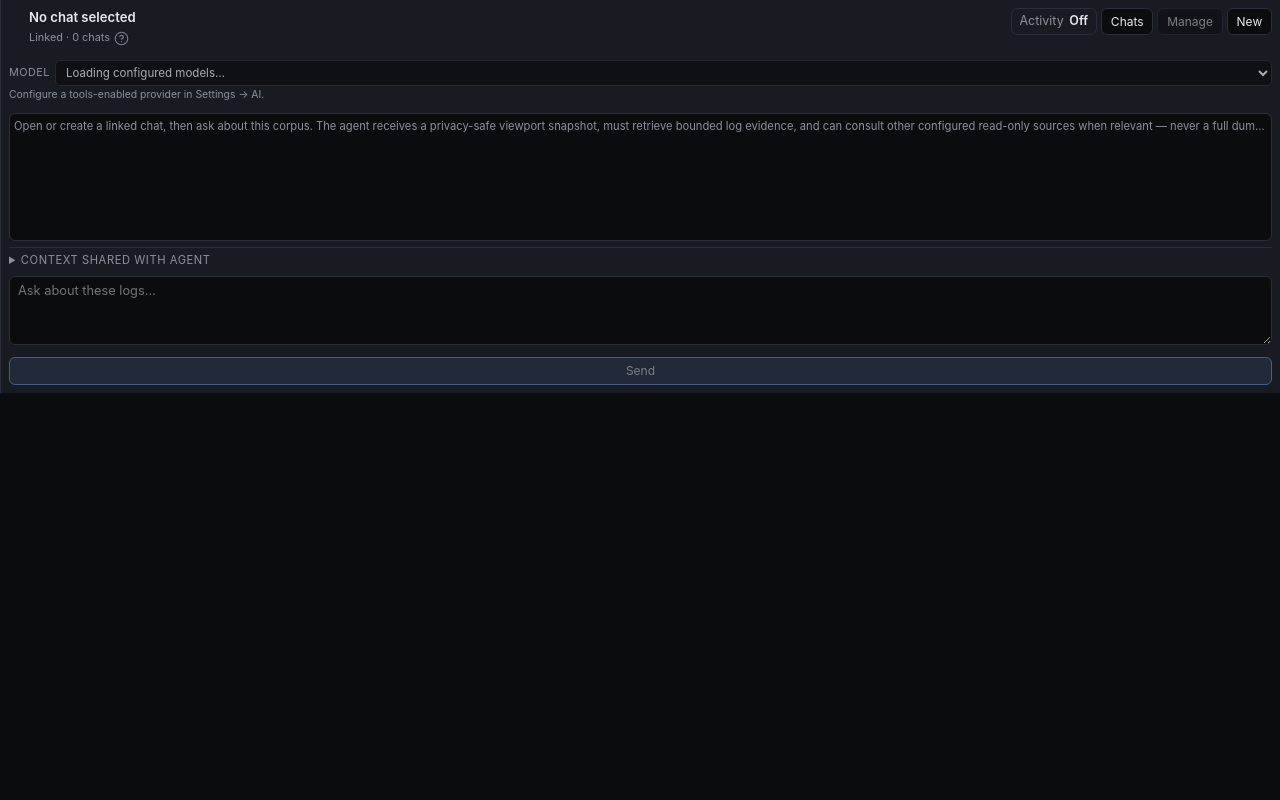
Test: LinkedChatRail › explains the bounded linked-chat context and privacy boundary
Click the button named "Help: How linked chat context works" at (121, 38), box 110,27 -> 132,49
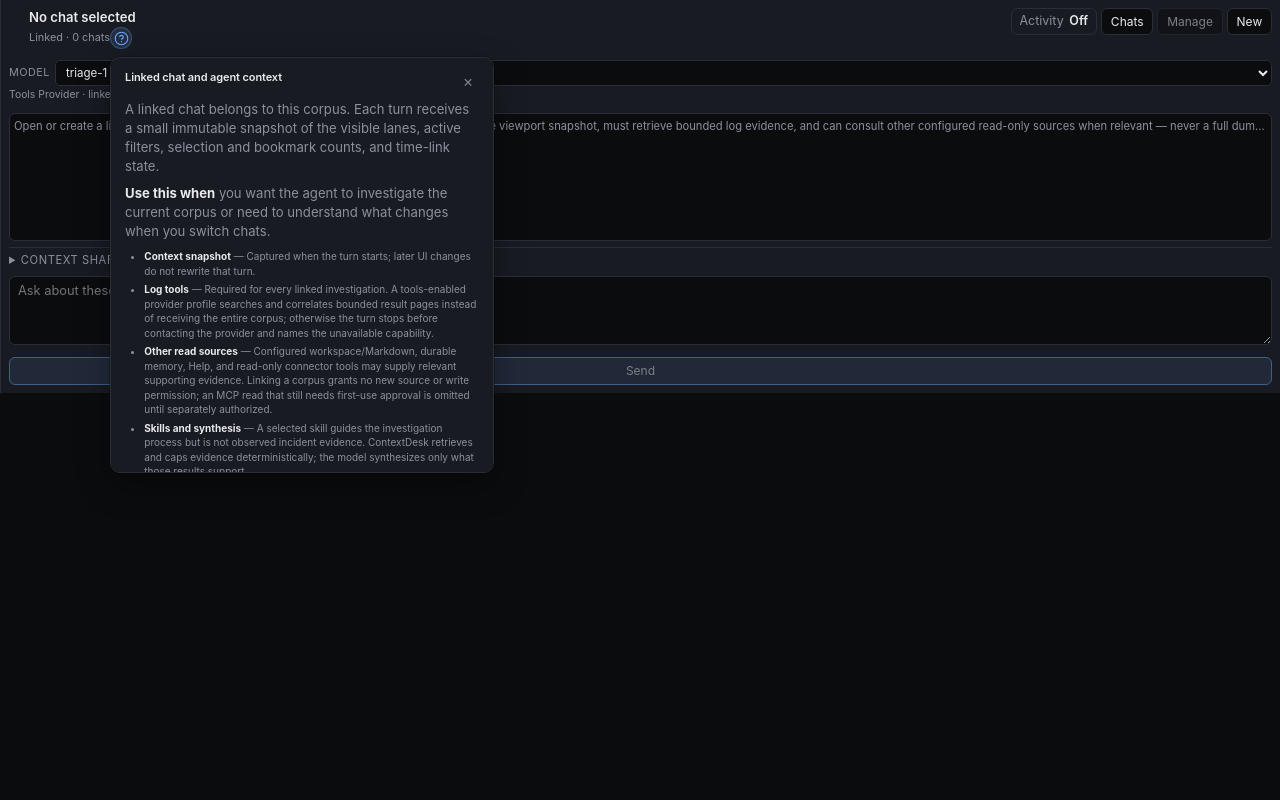
Check: the dialog "Linked chat and agent context" shows "small immutable snapshot", box 125,101 -> 469,174
Check: the dialog "Linked chat and agent context" shows "bounded result pages", box 144,283 -> 476,339
Check: the dialog "Linked chat and agent context" shows "tools-enabled provider profile", box 144,283 -> 476,339
